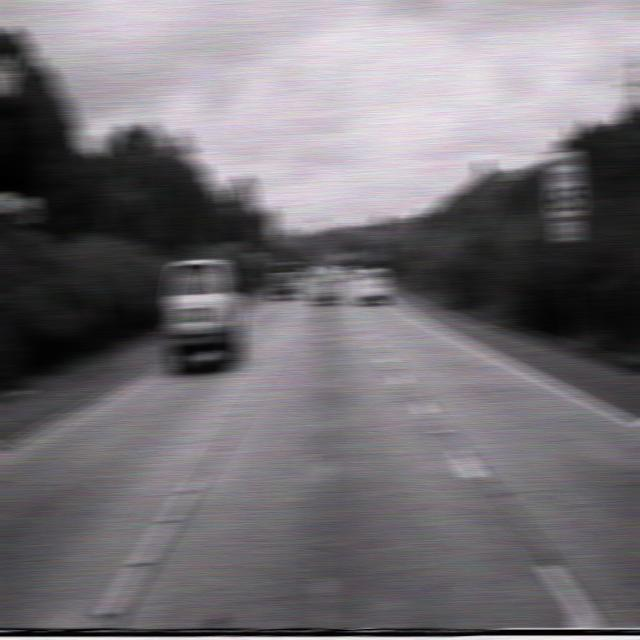speedLimit65: (544, 146, 586, 221)
